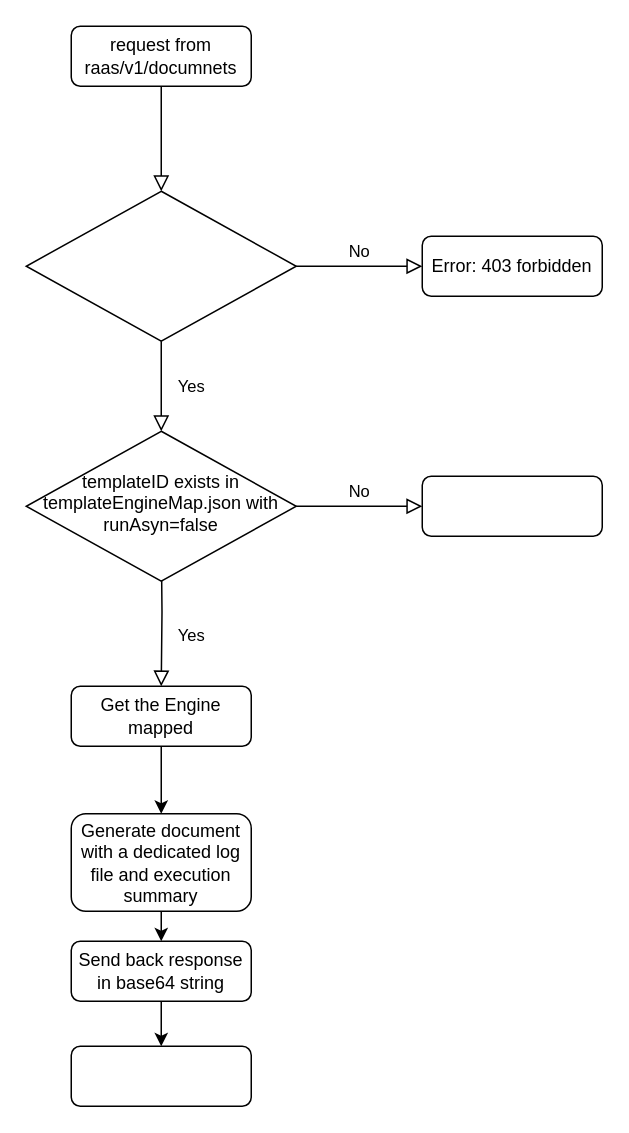
This 629x1133 diagram has some shape labels left out. Each missing label, with the centre of its shape:
"authorized client requested templateID" belongs at point 160,265.
"Error: 401 not found" belongs at point 511,505.
"Purge scratch" belongs at point 160,1075.
